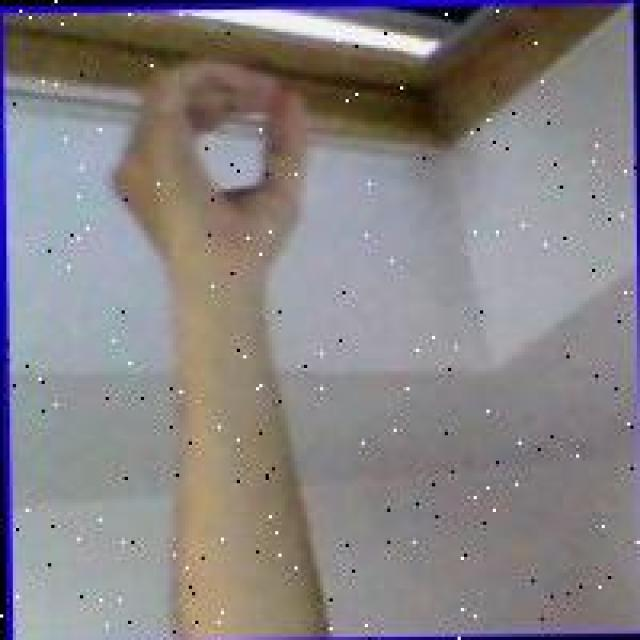O: (101, 48, 318, 275)
